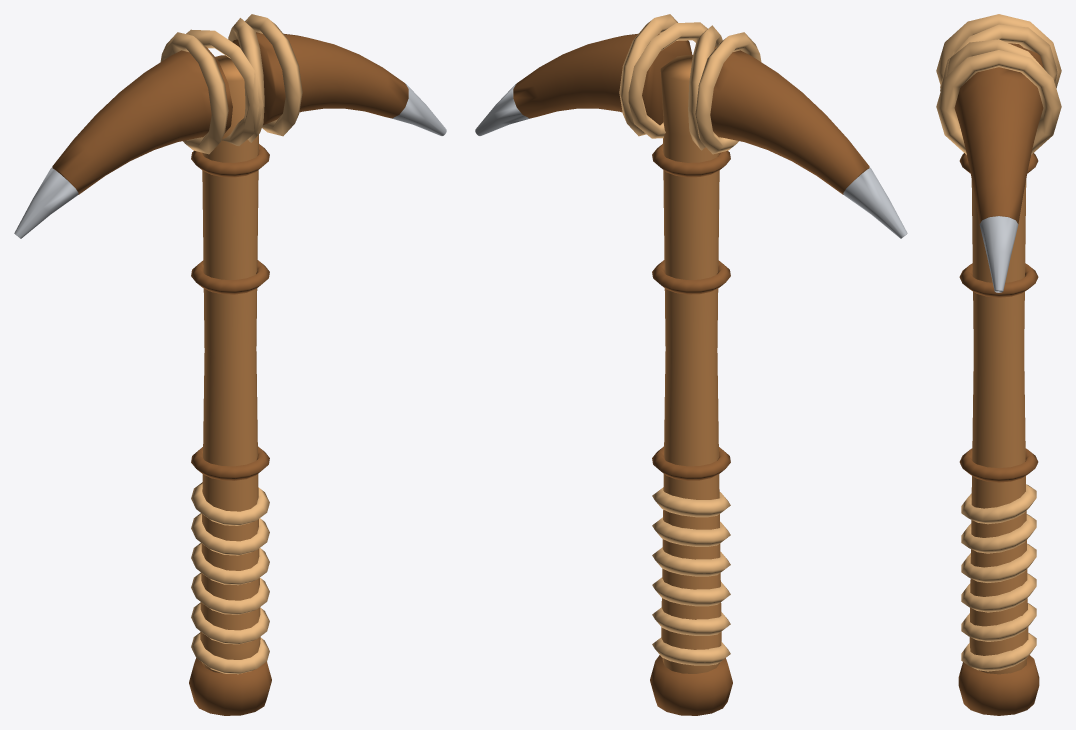
File: Tool_T1.fbx
The picture shows the model from 3 angles, left to right: view 1: azimuth 30°, elevation 25°; view 2: azimuth 150°, elevation 25°; view 3: azimuth 270°, elevation 25°; orthographic projection.
Parts seen in each view (by area): view 1: ToolT1Handle, ToolT1Head; view 2: ToolT1Handle, ToolT1Head; view 3: ToolT1Handle, ToolT1Head.
Part boxes in pixels (<box>): ToolT1Handle: <box>189,55,271,715</box>; ToolT1Head: <box>14,14,446,238</box>; ToolT1Handle: <box>650,55,732,715</box>; ToolT1Head: <box>475,14,907,238</box>; ToolT1Handle: <box>958,153,1039,715</box>; ToolT1Head: <box>936,14,1061,292</box>.
Bounding box in the file's own units: 279 × 417 × 71.
